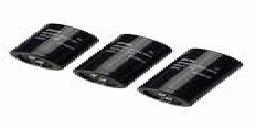Electrolytic-Capacitor: (137, 45, 245, 110), (9, 17, 97, 83)
